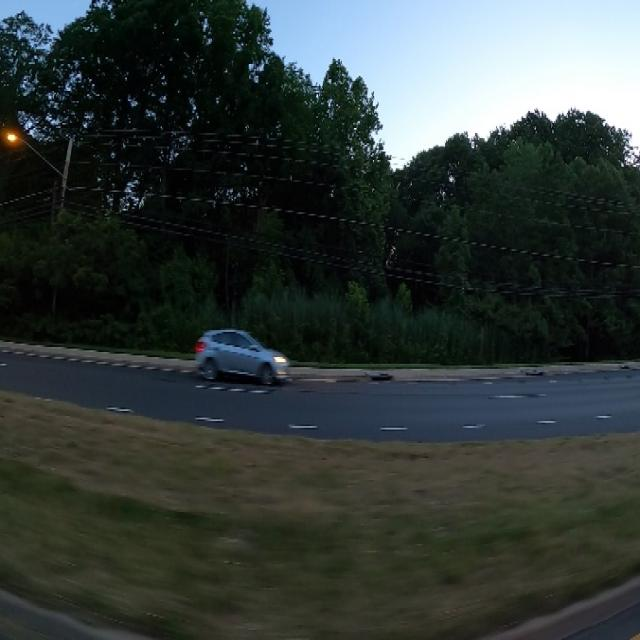cars: (191, 318, 296, 394)
